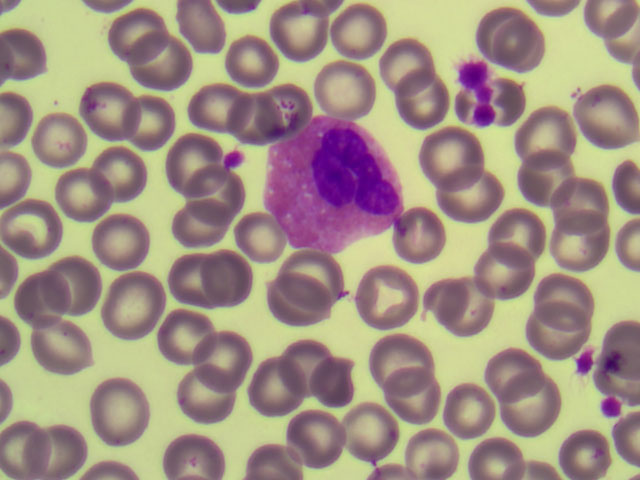Platelets: (595, 392, 623, 421), (461, 60, 490, 85), (573, 347, 594, 375), (223, 146, 247, 169), (476, 90, 493, 111)
RBC: (71, 75, 137, 139), (111, 91, 177, 155), (21, 108, 87, 172), (42, 151, 108, 215), (70, 142, 136, 206), (1, 197, 67, 261), (91, 204, 157, 268), (53, 250, 119, 314), (10, 264, 76, 328), (14, 311, 80, 375), (96, 276, 162, 340), (145, 303, 211, 367), (186, 327, 252, 391), (171, 353, 237, 417), (77, 379, 143, 443), (40, 412, 106, 476), (153, 416, 219, 480), (209, 240, 275, 304), (164, 241, 230, 305), (164, 198, 230, 262), (179, 167, 245, 231), (152, 127, 218, 191), (173, 74, 239, 138), (209, 74, 275, 138), (216, 26, 282, 90), (127, 35, 193, 99), (99, 5, 165, 69), (263, 4, 329, 68), (315, 62, 381, 126), (320, 10, 386, 74), (367, 23, 433, 87), (393, 69, 459, 133), (415, 122, 481, 186), (434, 170, 500, 234), (391, 206, 457, 270), (363, 265, 429, 329), (265, 268, 331, 332), (276, 232, 342, 296), (230, 206, 296, 270), (279, 321, 345, 385), (302, 349, 368, 413), (240, 351, 306, 415), (288, 409, 354, 473), (241, 416, 307, 480), (338, 397, 404, 461), (384, 364, 450, 428), (373, 314, 439, 378), (417, 278, 483, 342), (472, 231, 538, 295), (486, 203, 552, 267), (514, 141, 580, 205), (533, 87, 599, 151), (488, 4, 554, 68), (482, 5, 548, 69), (570, 87, 636, 151), (544, 215, 610, 279), (563, 172, 629, 236), (524, 255, 590, 319), (527, 299, 593, 363), (1, 414, 66, 478), (497, 375, 562, 436), (442, 376, 507, 437), (461, 419, 526, 480), (560, 419, 625, 480), (396, 419, 461, 480), (487, 344, 545, 390)
WBC: (270, 130, 405, 244)
